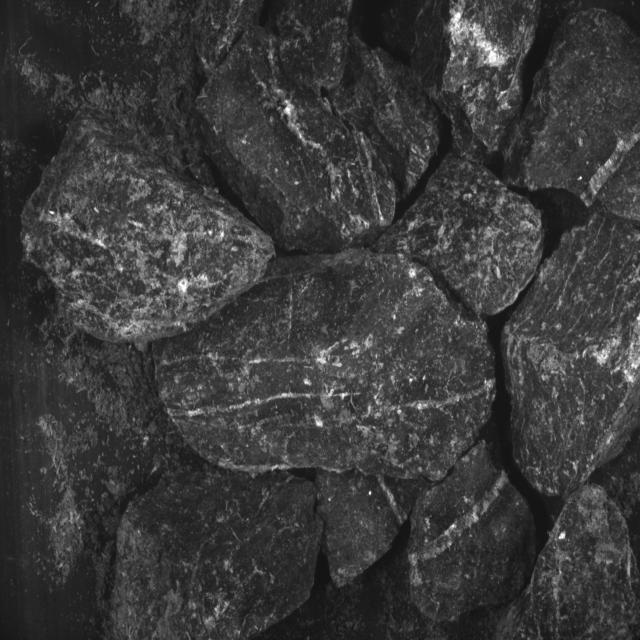Stones: (156, 251, 496, 482), (22, 110, 275, 343), (197, 28, 397, 254), (502, 213, 640, 496), (112, 471, 322, 640), (506, 10, 640, 226), (376, 156, 545, 316), (409, 442, 536, 621), (497, 485, 640, 640), (412, 1, 541, 164), (331, 37, 440, 202), (317, 471, 430, 588), (277, 1, 352, 93), (437, 281, 441, 286)
